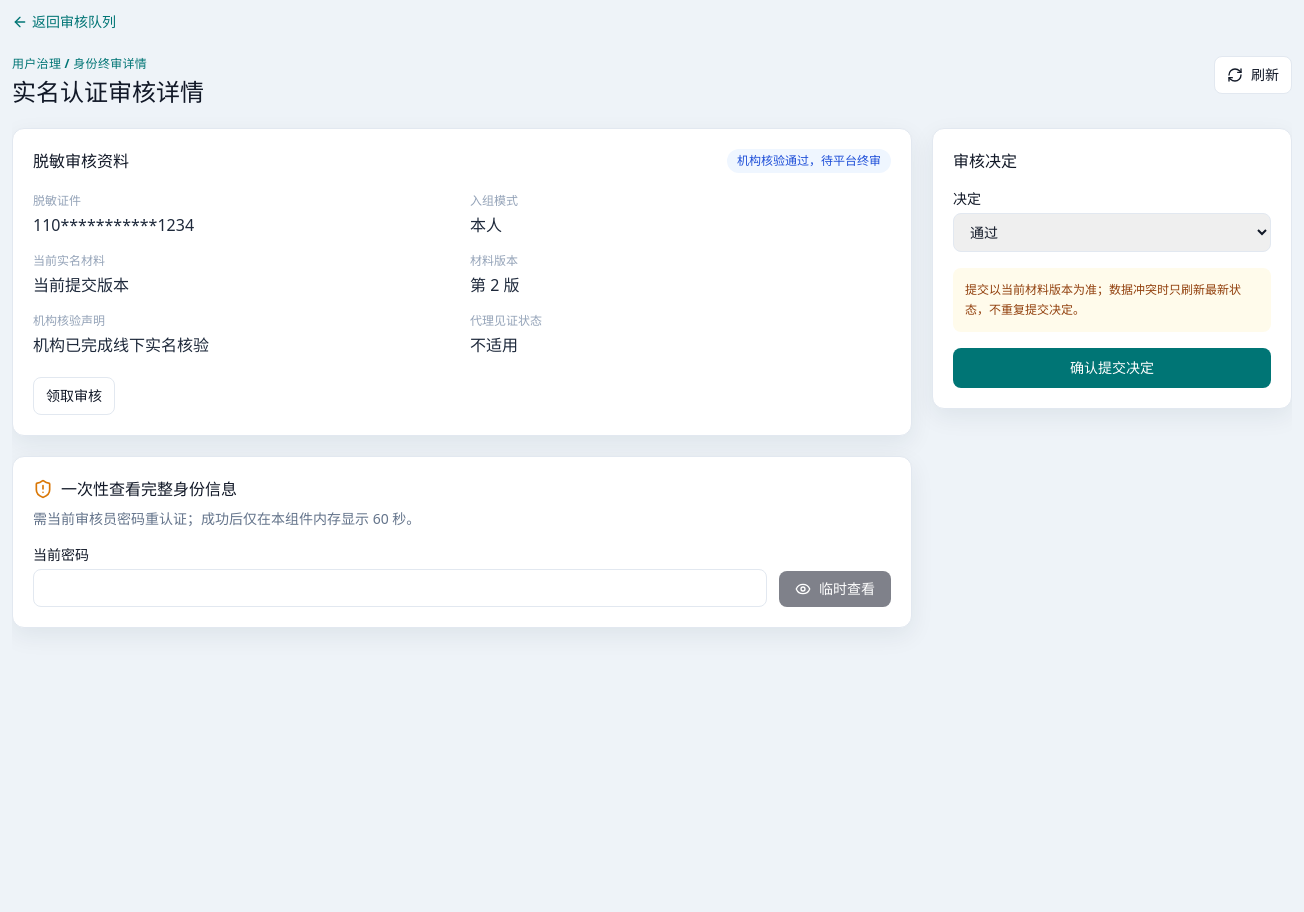
Test: Platform Member Identity Review Workbench › 403 决定失败会立即清除已显示的完整身份且不显示原始错误
Expected: the text "110***********1234" is shown, [33, 214, 194, 236]
Type "temporary" into the password field named "当前审核员密码" at {"x": 400, "y": 588}, box [33, 569, 767, 607]
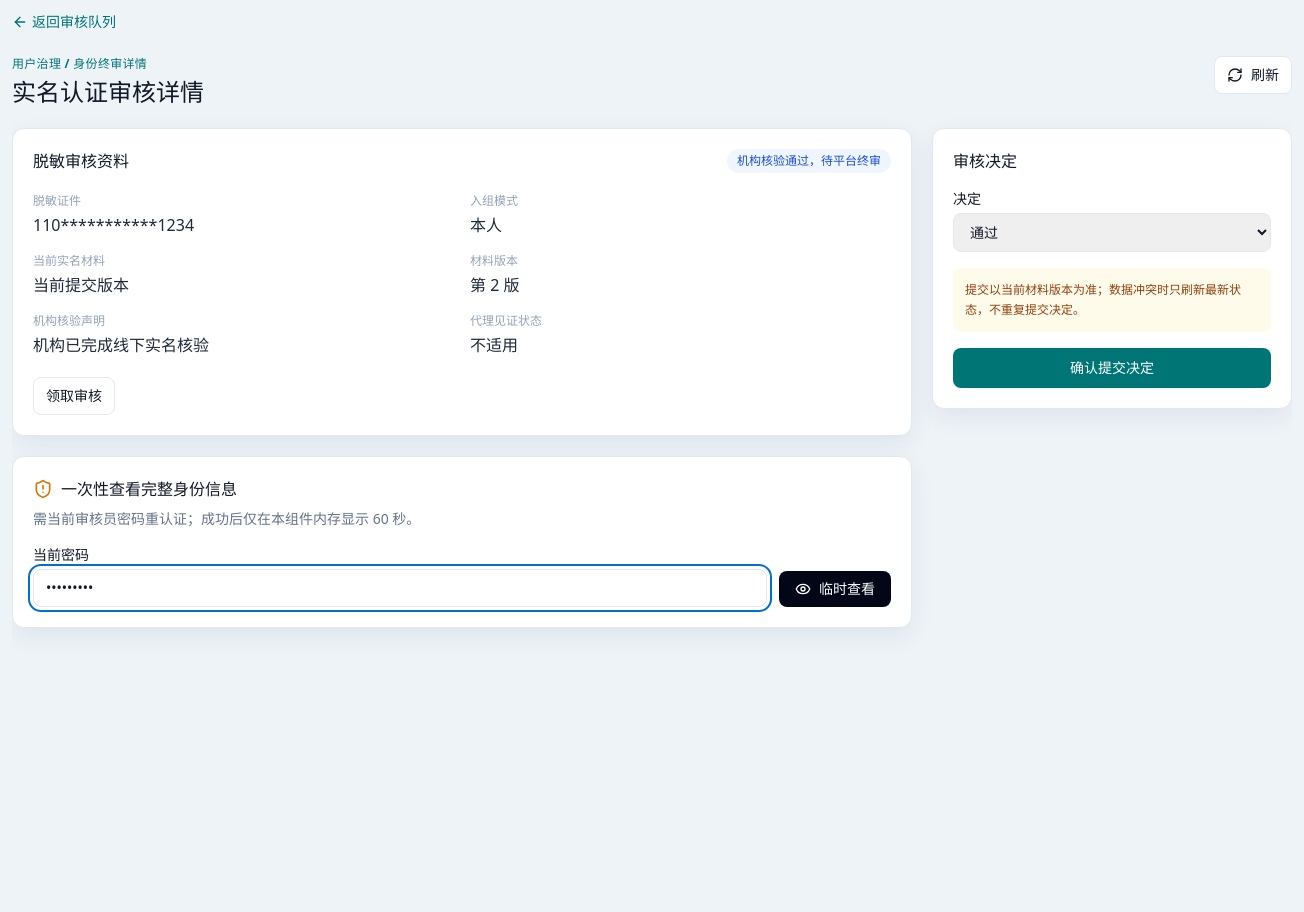
Click the button "临时查看" at {"x": 835, "y": 589}, box [779, 571, 891, 607]
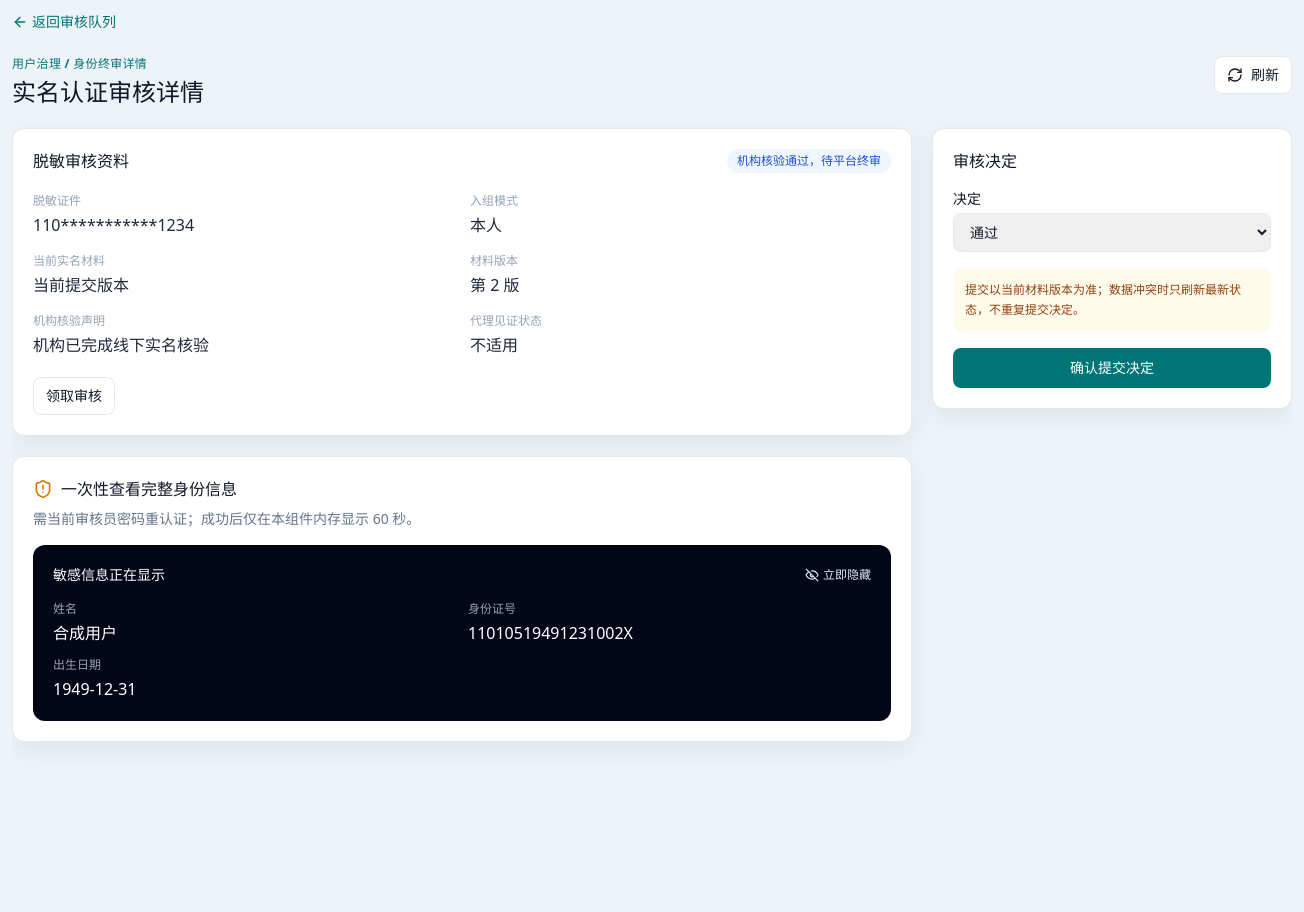
Click the button "确认提交决定" at {"x": 1112, "y": 368}, box [953, 348, 1271, 388]
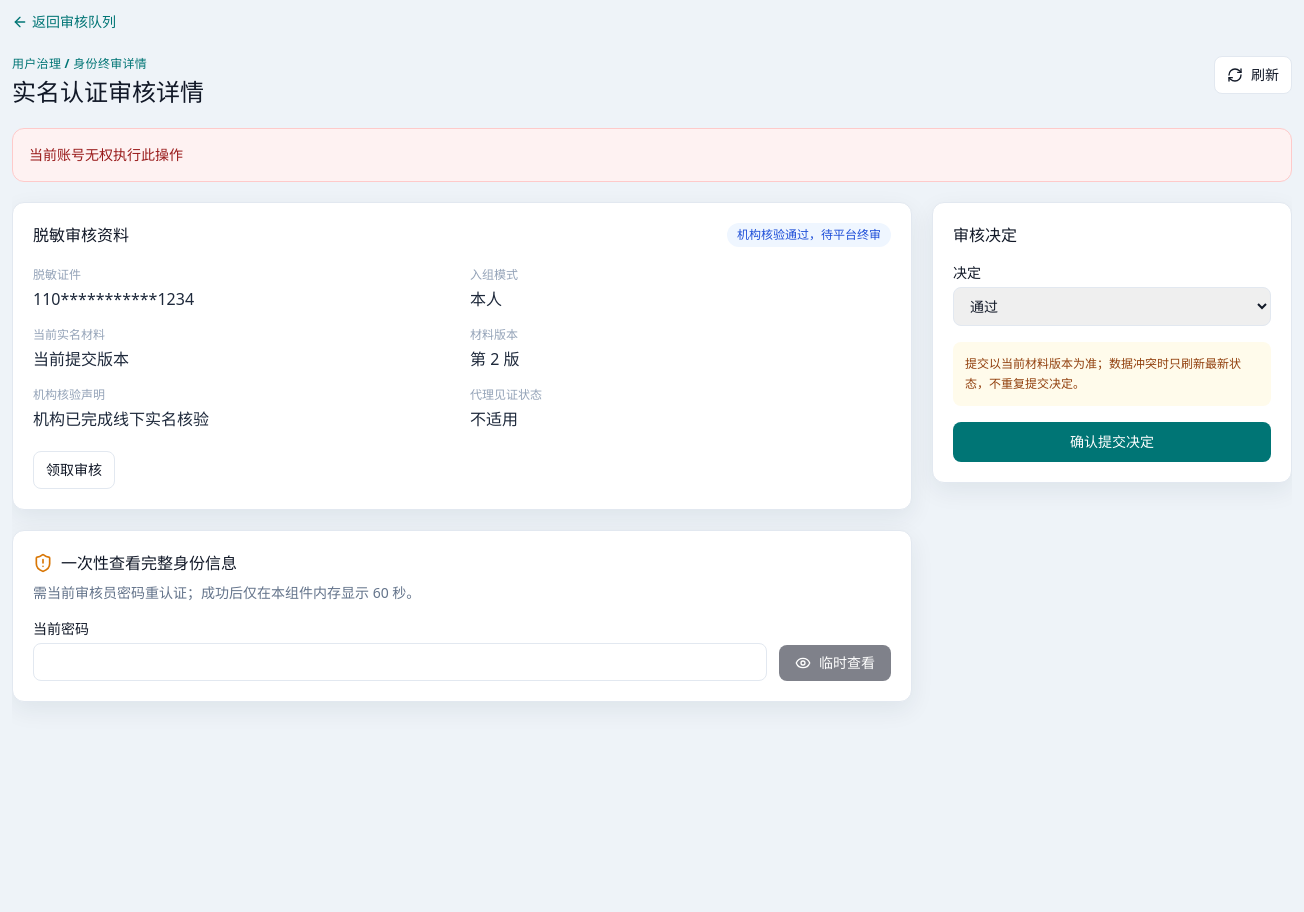
Now the text "当前账号无权执行此操作" is shown, box [12, 128, 1292, 182]
